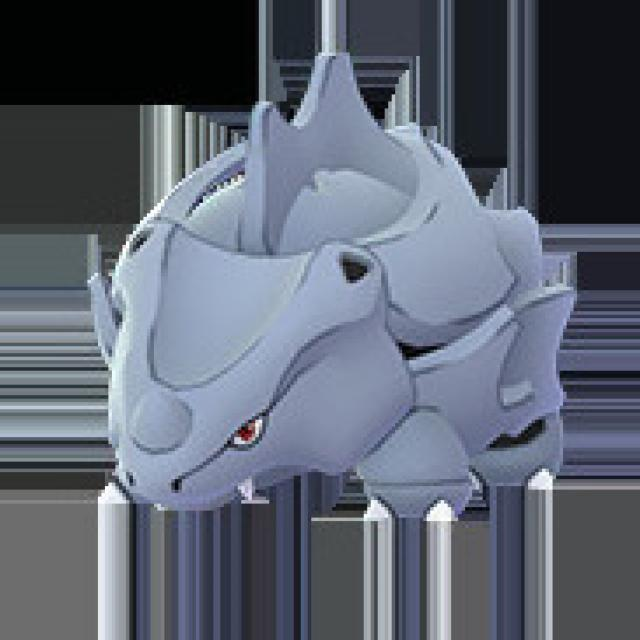Rhyhorn: (96, 39, 576, 532)
